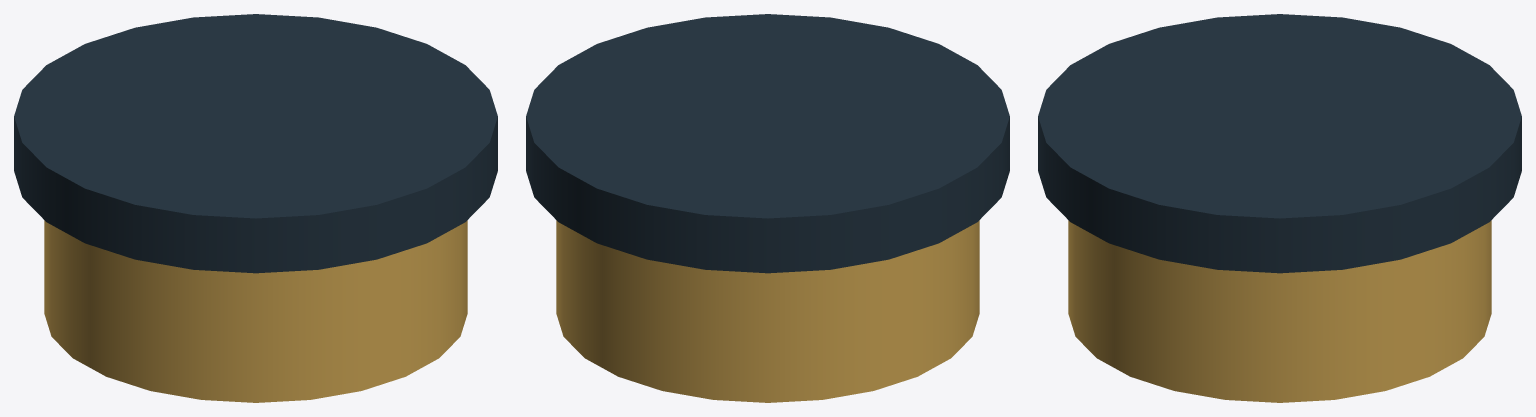
The model's file is paper.glb.
3 views of the same model, side by side, from view 1: azimuth 30°, elevation 25°; view 2: azimuth 150°, elevation 25°; view 3: azimuth 270°, elevation 25° (orthographic).
Visible parts, largest first — view 1: DoseLid, MeteredAdhesive; view 2: DoseLid, MeteredAdhesive; view 3: DoseLid, MeteredAdhesive.
Part boxes in pixels (x1,y1,x2,y2): DoseLid: (14, 14, 497, 273); MeteredAdhesive: (44, 220, 467, 402); DoseLid: (526, 14, 1009, 273); MeteredAdhesive: (556, 220, 979, 402); DoseLid: (1038, 14, 1521, 273); MeteredAdhesive: (1068, 220, 1491, 402).
Bounding box in the file's own units: 0.016 × 0.0072 × 0.016.
